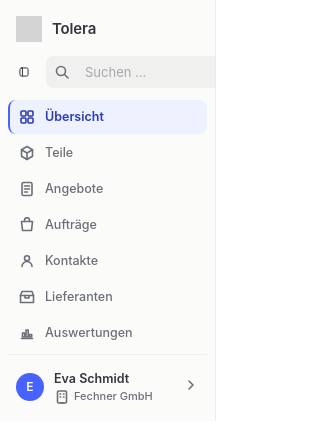
Test case: i18n locale toggle › swaps the catalog live (de → en)
The image size is (320, 438).
Expected: the link "Übersicht" is shown, [8,100,207,134]
# Open the account menu and switch to English.
What coordinates should you click on to do the following:
click the button with aria-label "Konto"
I would click on:
 (108, 387)
Its box is [8,363,207,411].
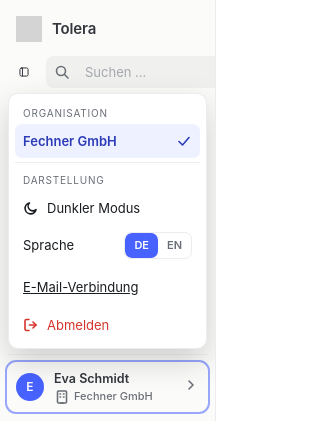
What coordinates should you click on to do the following:
click the button "EN"
I would click on:
 (174, 245)
Its box is [158,233,191,258].
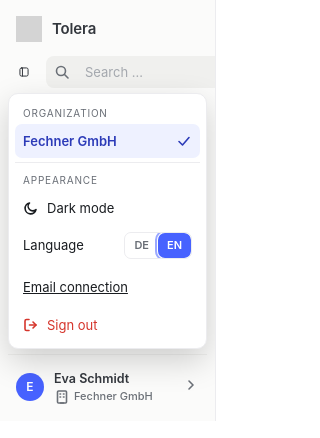
Result: the link "Dashboard" is shown at [8,100,207,134]
Result: the link "Übersicht" is gone
